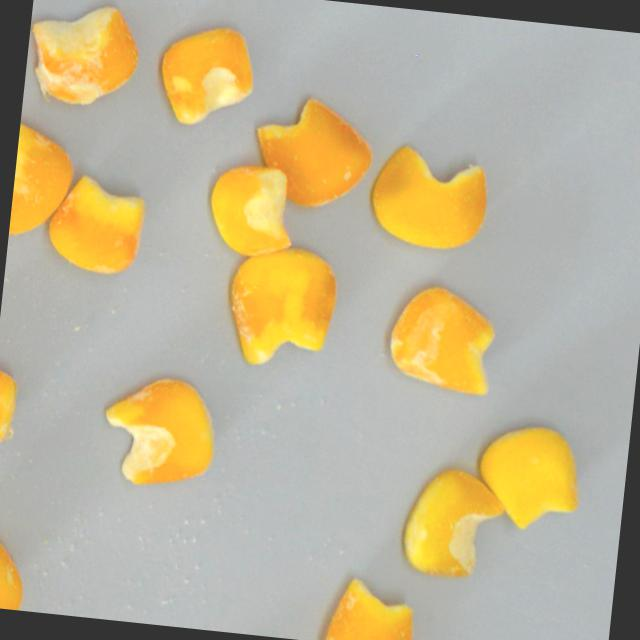dañado: (94, 362, 225, 496), (243, 88, 379, 215), (220, 238, 344, 377), (364, 137, 494, 258), (380, 275, 504, 399), (21, 0, 147, 116), (397, 460, 511, 585), (38, 164, 150, 285), (151, 14, 262, 134), (319, 571, 422, 640), (0, 520, 33, 611)
no_canjicado: (469, 415, 590, 537)
no_desgerminado: (203, 157, 301, 259)
pelicula: (7, 118, 80, 244), (0, 354, 30, 465)
